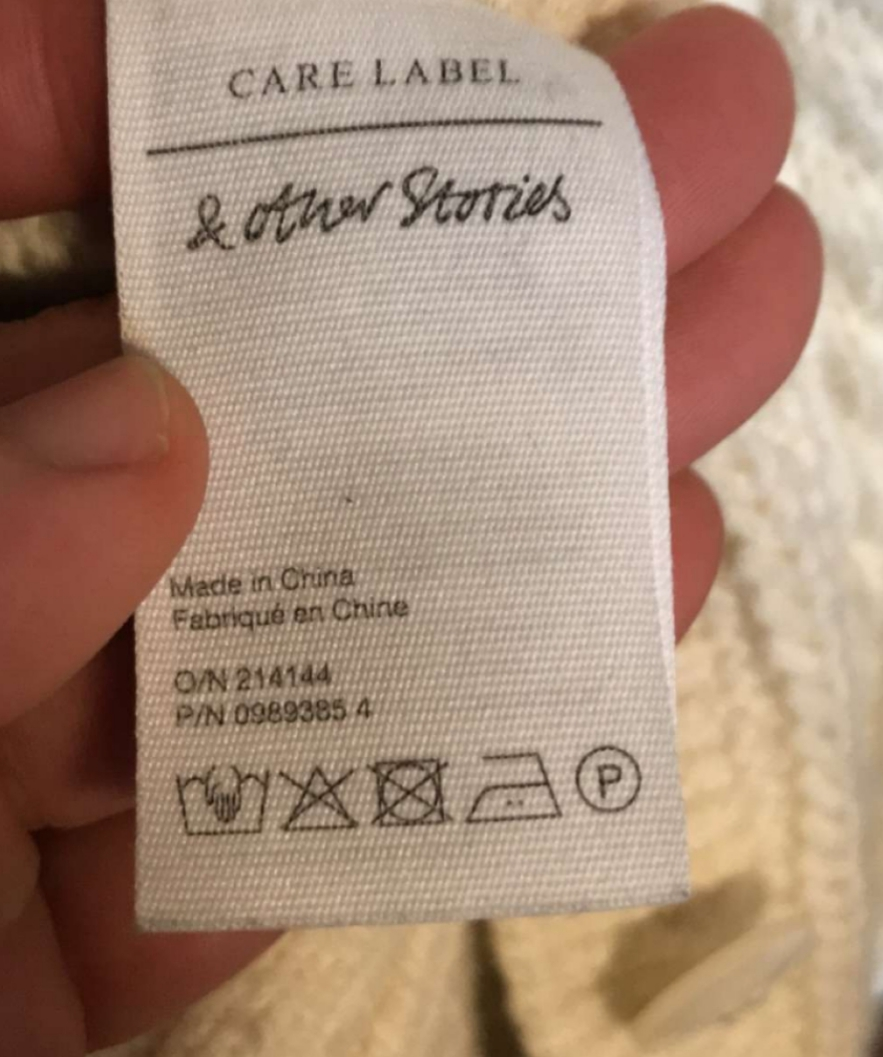do not bleach: (276, 756, 370, 841)
do not tumble dry: (362, 747, 450, 834)
dry clean: (559, 718, 656, 826)
handwash: (168, 763, 279, 847)
iron medium temp: (460, 736, 570, 841)
